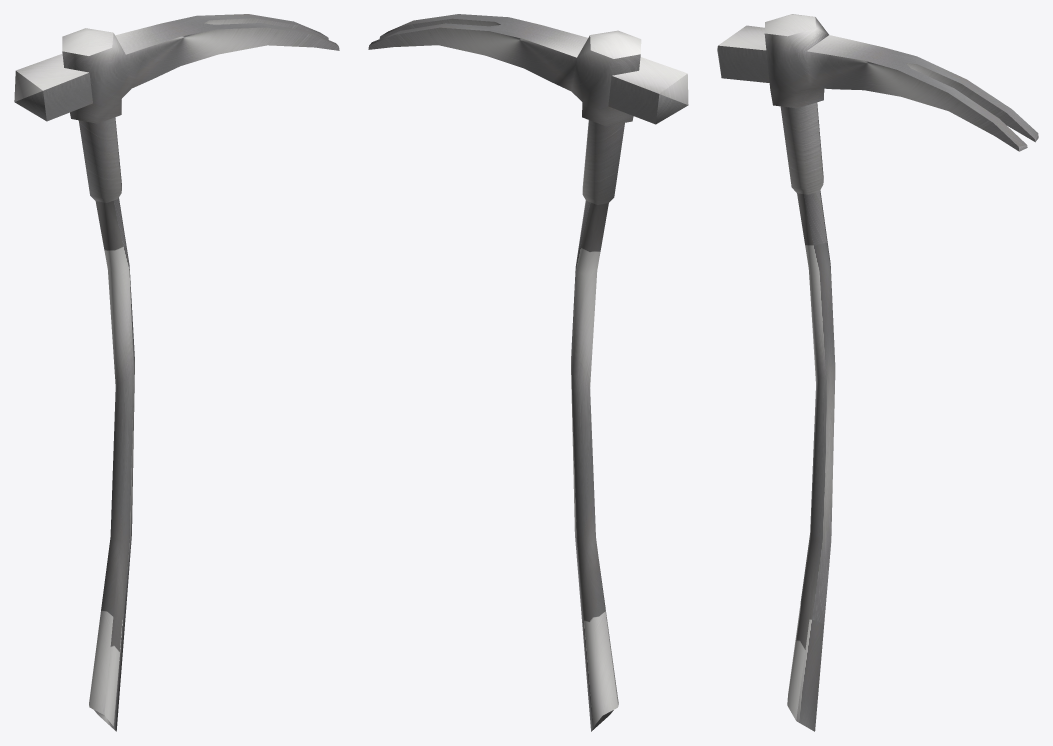
Rendered from pickaxe2.glb.
3 views of the same model, side by side, from view 1: azimuth 30°, elevation 25°; view 2: azimuth 150°, elevation 25°; view 3: azimuth 330°, elevation 25° (orthographic).
Parts seen in each view (by area): view 1: Tri W_miner_pick 2; view 2: Tri W_miner_pick 2; view 3: Tri W_miner_pick 2.
Boxes of the visible parts, x1,y1,x2,y2 form: Tri W_miner_pick 2: [14, 14, 339, 731]; Tri W_miner_pick 2: [368, 14, 688, 731]; Tri W_miner_pick 2: [717, 14, 1038, 731].
Bounding box in the file's own units: 2.79 × 5.96 × 0.4375.
1 material, 1 textured.
